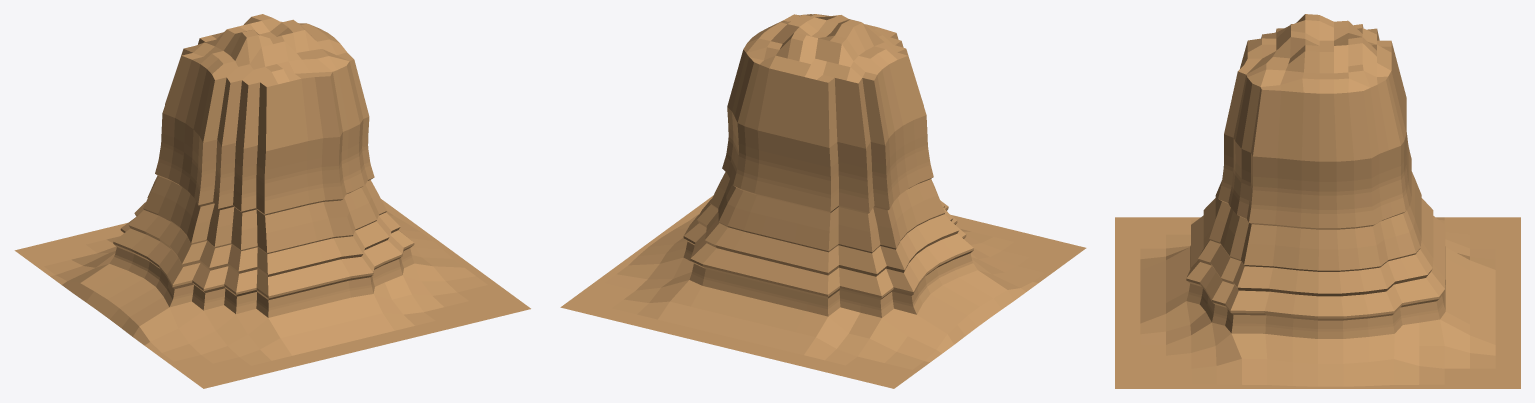
The model's file is Plateau 001.fbx.
The picture shows the model from 3 angles, left to right: view 1: azimuth 30°, elevation 25°; view 2: azimuth 150°, elevation 25°; view 3: azimuth 270°, elevation 25°; orthographic projection. The views are drawn at different scales.
Parts seen in each view (by area): view 1: Plane; view 2: Plane; view 3: Plane.
Boxes of the visible parts, x1,y1,x2,y2 form: Plane: (14, 14, 530, 388); Plane: (560, 14, 1086, 388); Plane: (1115, 14, 1520, 388).
Bounding box in the file's own units: 11824 × 8755 × 11818.
